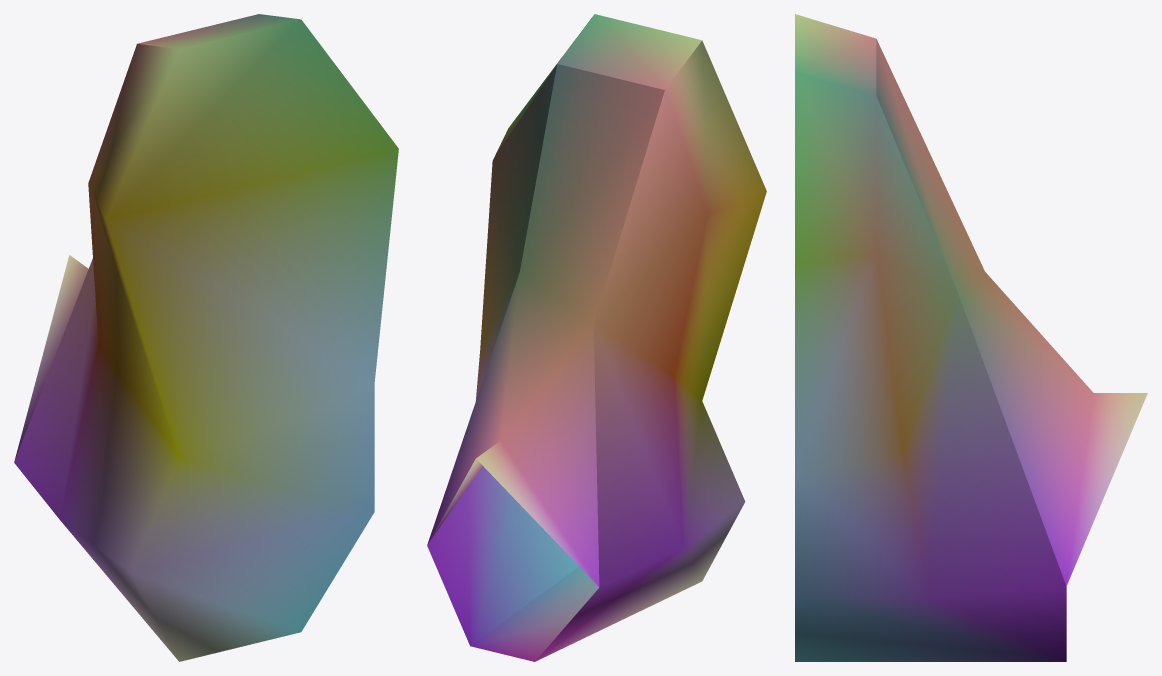
The picture shows the model from 3 angles, left to right: view 1: azimuth 30°, elevation 25°; view 2: azimuth 150°, elevation 25°; view 3: azimuth 270°, elevation 25°; orthographic projection. The views are drawn at different scales.
Parts seen in each view (by area): view 1: part; view 2: part; view 3: part.
Part boxes in pixels (x1,y1,x2,y2): part: (14,14,398,661); part: (427,14,766,661); part: (795,14,1147,661).
Size of the model in its own units: 12 by 24 by 13.
